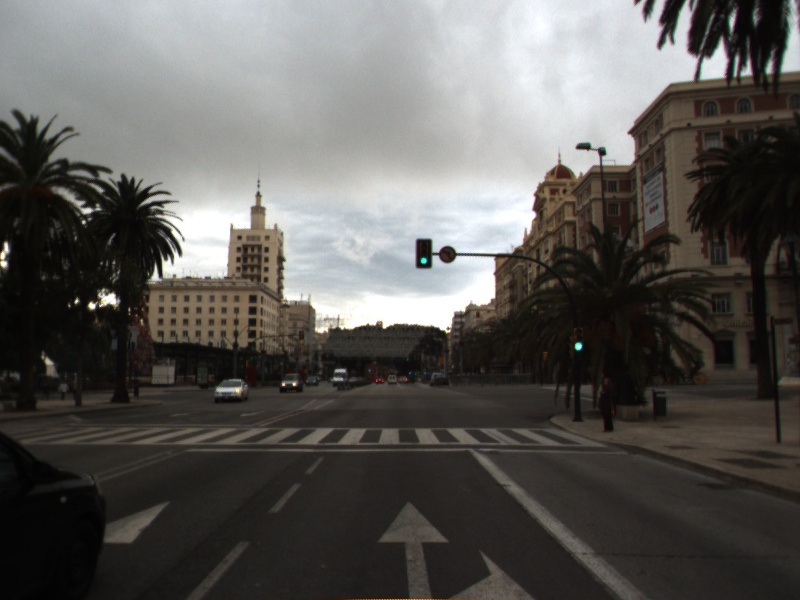STRAIGHT_RIGHT: (375, 498, 539, 600)
